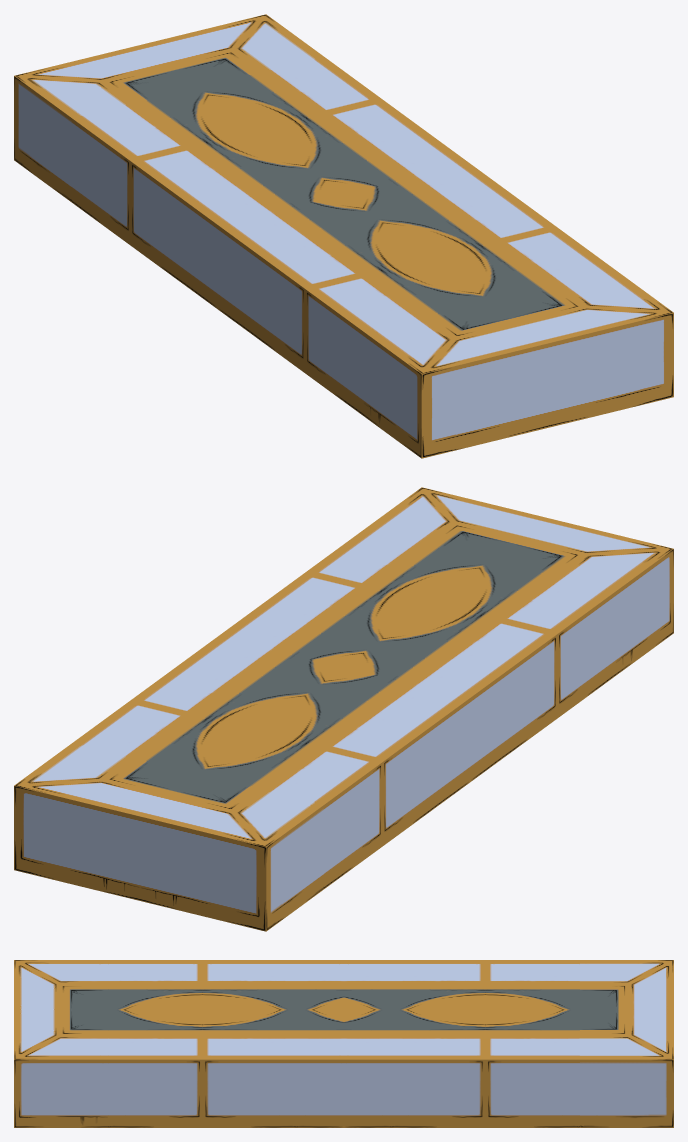
The model's file is diamond_display_long.fbx.
3 views of the same model, one above another, from view 1: azimuth 30°, elevation 25°; view 2: azimuth 150°, elevation 25°; view 3: azimuth 270°, elevation 25° (orthographic). The views are drawn at different scales.
Parts seen in each view (by area): view 1: diamond_display_long; view 2: diamond_display_long; view 3: diamond_display_long.
Boxes of the visible parts, x1=… form: diamond_display_long: x1=14, y1=14, x2=673, y2=458; diamond_display_long: x1=14, y1=487, x2=673, y2=931; diamond_display_long: x1=14, y1=960, x2=673, y2=1127.
Bounding box in the file's own units: 2.5 × 0.8 × 7.
Materials: 1 (1 with a texture image).
